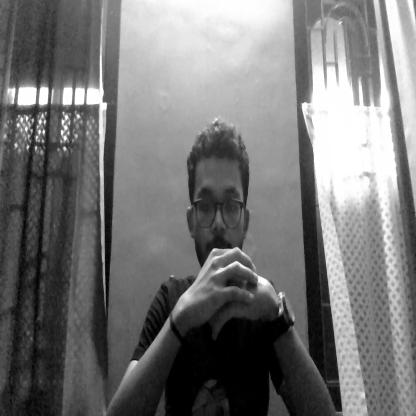Normal: (186, 114, 256, 298)
